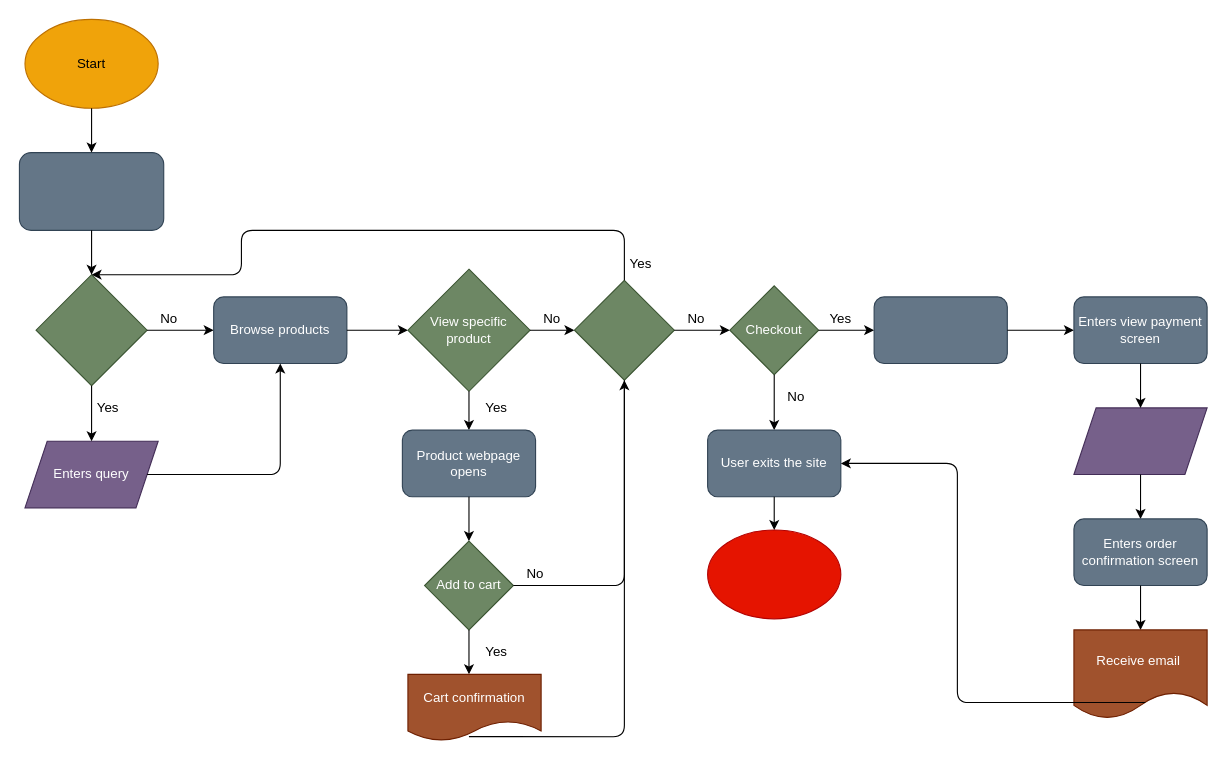
This 1227x760 diagram has some shape labels left out. The shapes that lost their labels are listed below. From the top down, each one's centre as x and y in pixels, then its label:
At (x=91, y=191): "User enters the page".
At (x=91, y=330): "Search for product".
At (x=623, y=329): "Continue shopping".
At (x=940, y=330): "Enters view cart screen".
At (x=1140, y=441): "Enters payment information".
At (x=774, y=574): "End".
